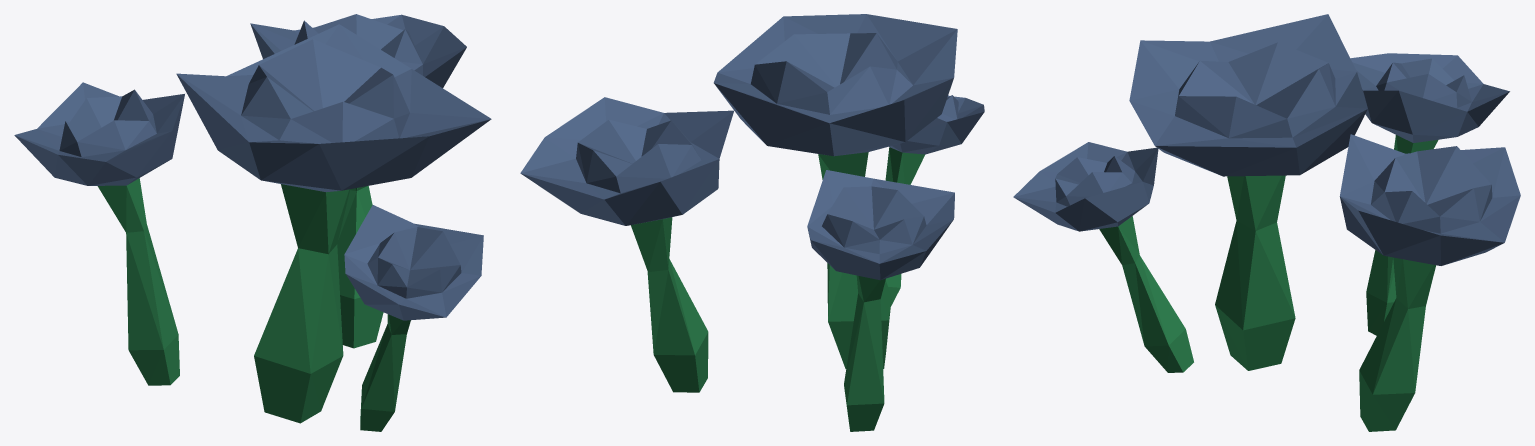
File: SM_Env_Flower_07-optimized.glb
3 views of the same model, side by side, from view 1: azimuth 30°, elevation 25°; view 2: azimuth 150°, elevation 25°; view 3: azimuth 270°, elevation 25° (orthographic). The views are drawn at different scales.
Visible parts, largest first — view 1: SM_Env_Flower_07; view 2: SM_Env_Flower_07; view 3: SM_Env_Flower_07.
Part boxes in pixels (x1,y1,x2,y2): SM_Env_Flower_07: (14,14,491,431); SM_Env_Flower_07: (520,14,984,431); SM_Env_Flower_07: (1013,14,1520,431).
Bounding box in the file's own units: 4.79 × 3.77 × 5.35.
1 material, 1 textured.
